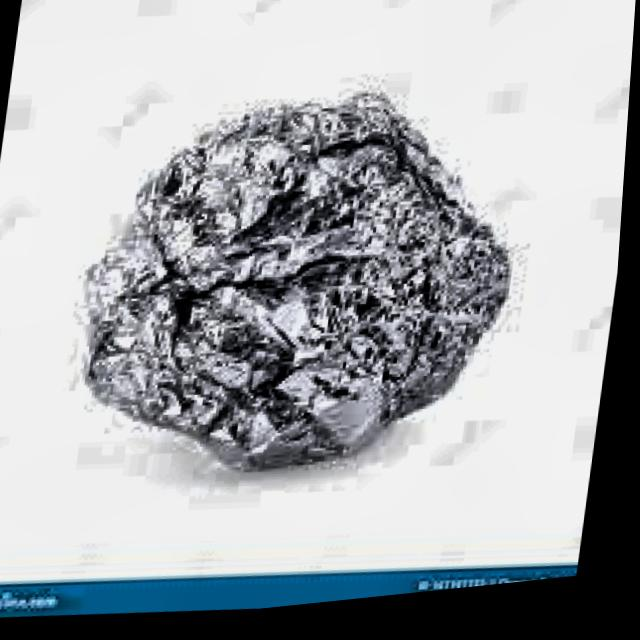Foil: (51, 67, 547, 522)
